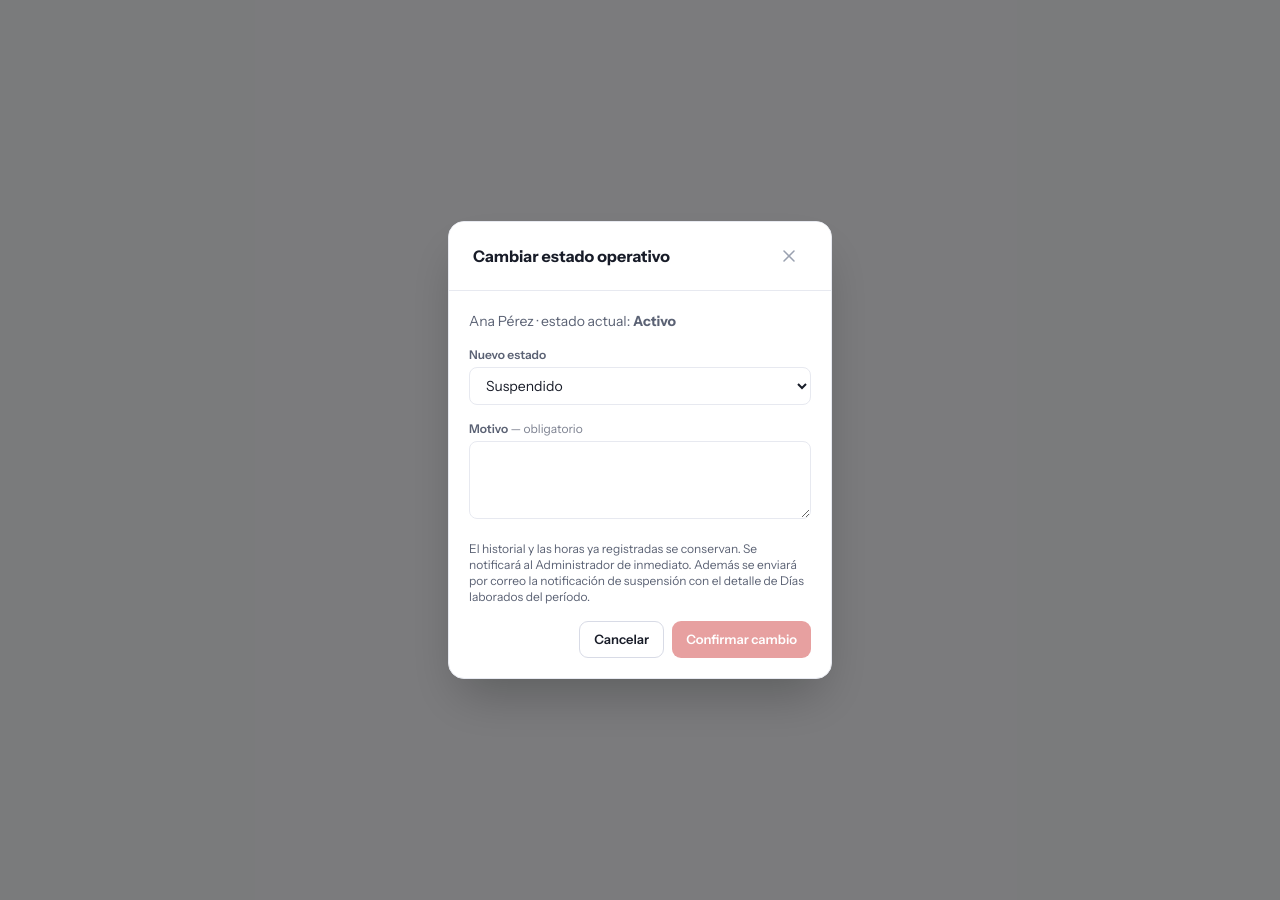
Test: StatusChangeDialog — notificación de salida › confirma el cambio y muestra el correo como pendiente, no como enviado
The width and height of the screenshot is (1280, 900).
Step 1. Select "Inactivo" in the dropdown → (640, 386), box left=469, top=367, right=811, bottom=405
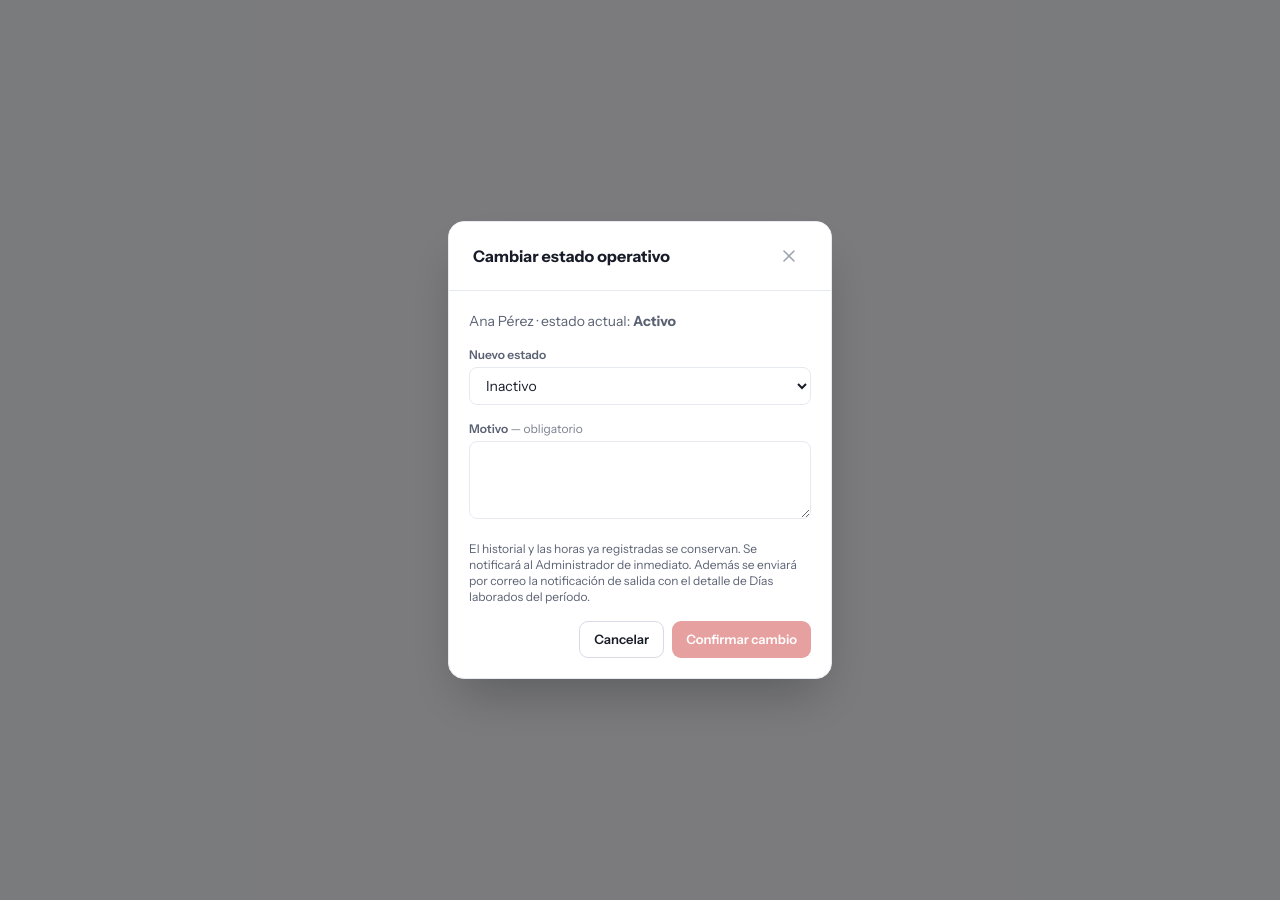
Now the text "se enviará por correo la notificación de salida" is shown, box left=469, top=557, right=797, bottom=604
Step 2. Type "Renuncia" into the text box → (640, 480), box left=469, top=441, right=811, bottom=519
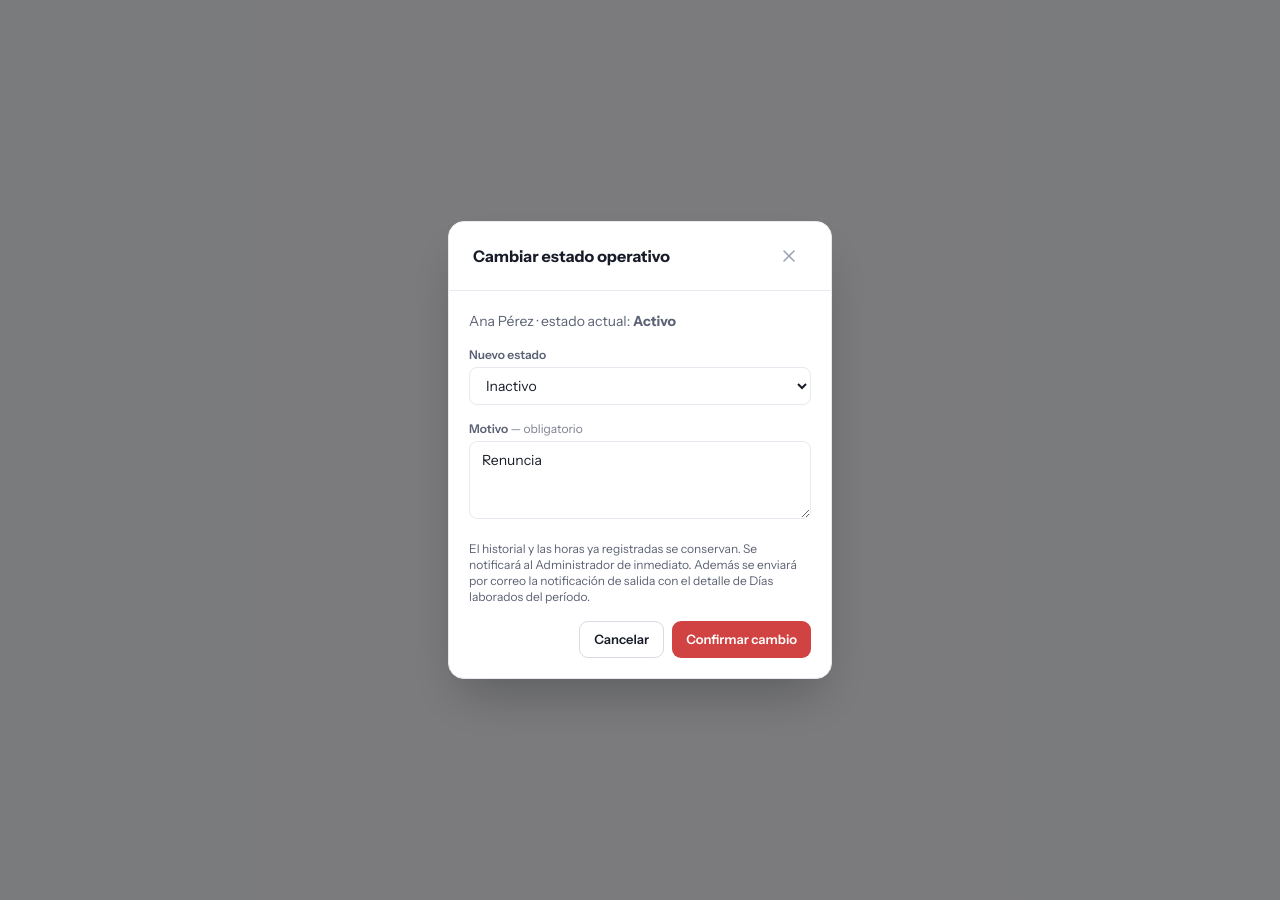
Step 3. Click the button "Confirmar cambio" → (742, 640), box left=672, top=621, right=811, bottom=658
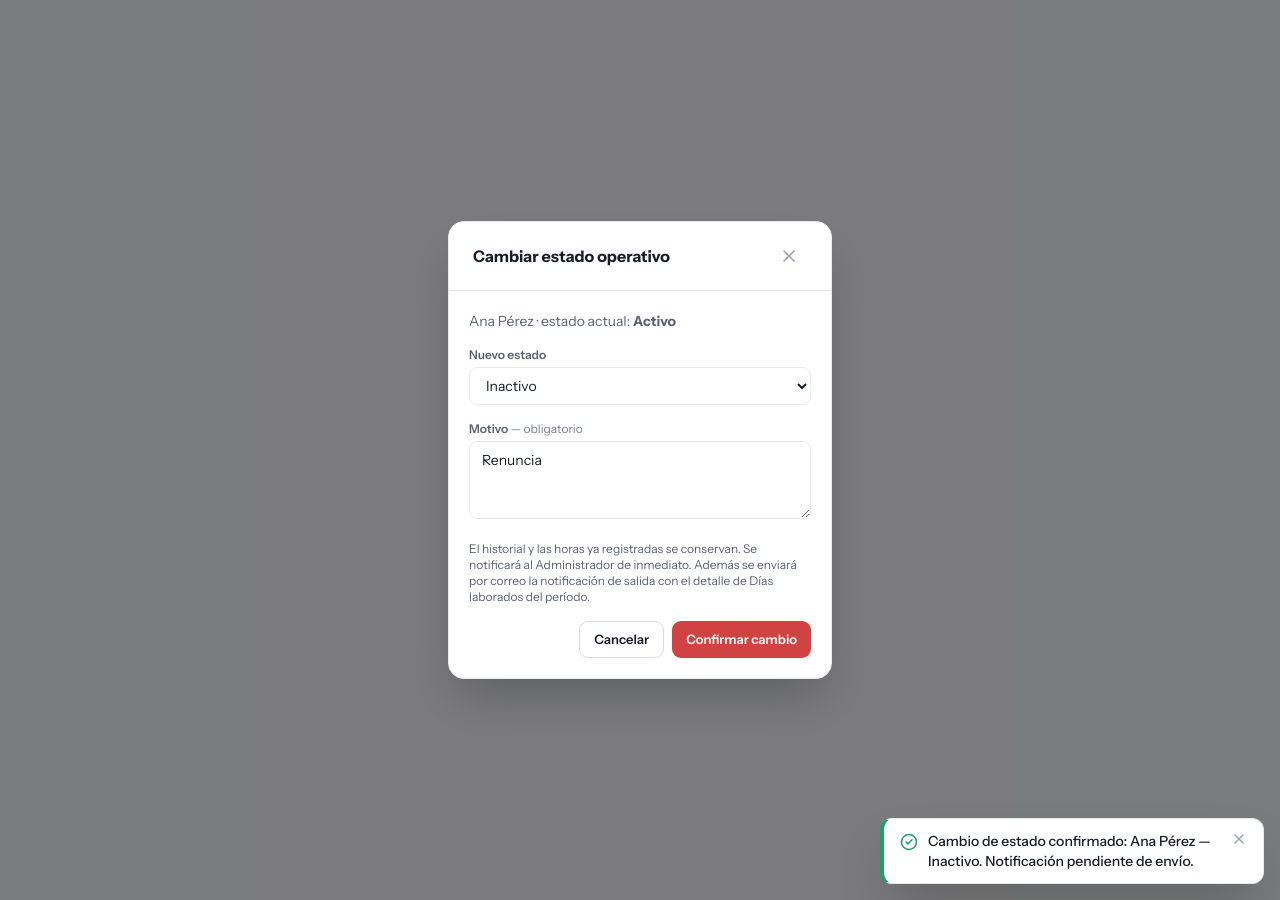
Now the text "Cambio de estado confirmado: Ana Pérez — Inactivo. Notificación pendiente de envío." is shown, box left=928, top=832, right=1211, bottom=870
